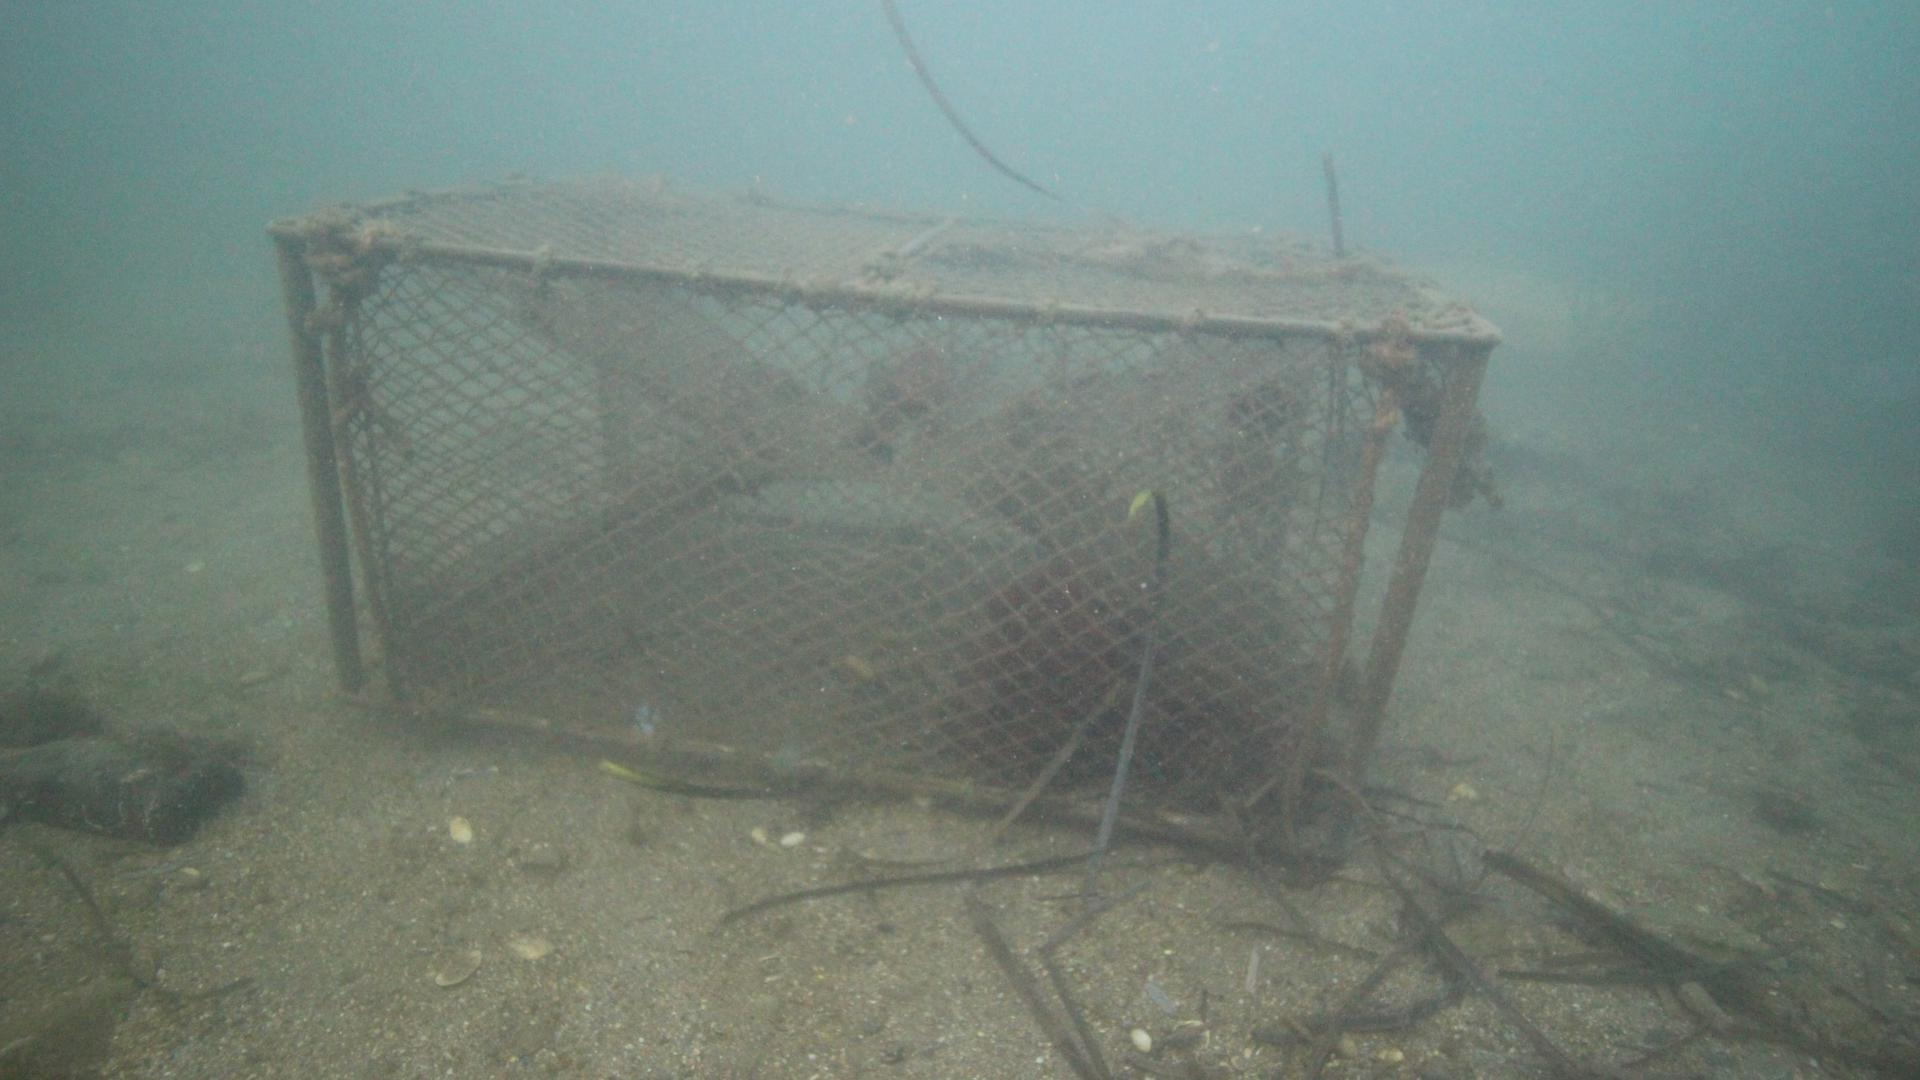rectangular fish trap: (262, 173, 1506, 872)
